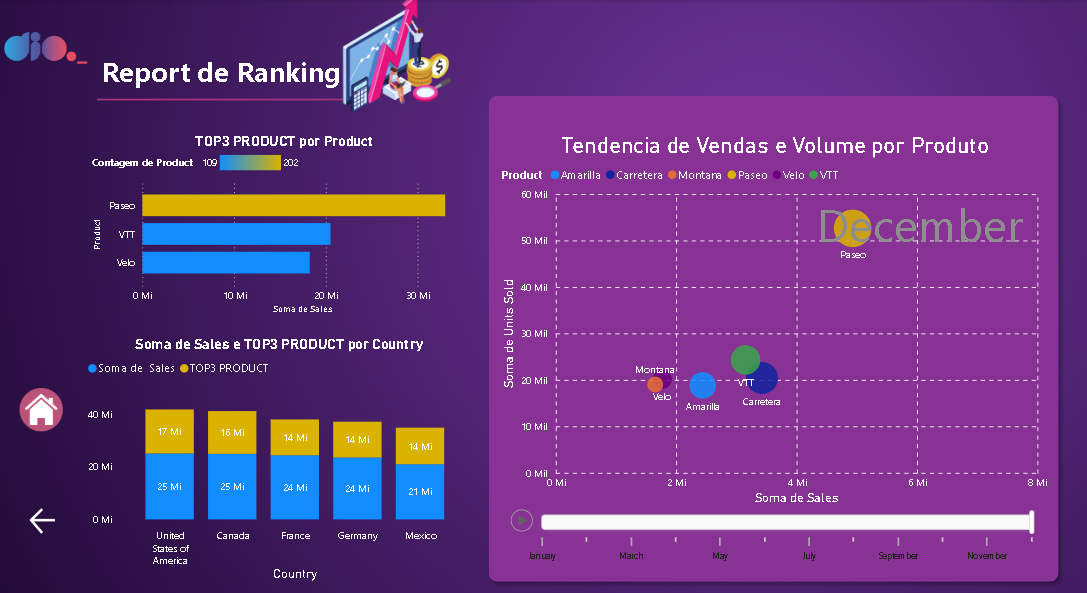

The page's visual inventory and layout, read from the dashboard file:
{"tool":"powerbi","page":{"name":"TOPN & Outliers","canvas":[1280,720],"ordinal":5},"visuals":[{"type":"image","box":[0,0,1280,720],"z":0},{"type":"shape","box":[566.7,111.7,688.3,590],"z":1000},{"type":"barChart","title":"TOP3 PRODUCT por Product","fields":{"Category":["financials.Product"],"Y":["Sum(financials. Sales)"]},"box":[105,163.3,461.7,218.3],"z":2000},{"type":"columnChart","fields":{"Y":["Sum(financials. Sales)","financials.TOP3 PRODUCT"],"Category":["financials.Country"]},"box":[98.6,402.9,461.4,294.3],"z":3000},{"type":"scatterChart","title":"Tendencia de Vendas e Volume por Produto","fields":{"X":["Sum(financials. Sales)"],"Y":["Sum(financials.Units Sold)"],"Size":["Sum(financials.Profit)"],"Play":["financials.Month Name"],"Series":["financials.Product"]},"box":[586.7,163.3,651.7,523.3],"z":4000},{"type":"image","box":[6,2,98,124],"z":5000},{"type":"actionButton","box":[31.7,601.7,46.7,40],"z":6000},{"type":"shape","box":[115.7,111.4,294.3,27.1],"z":7000},{"type":"textbox","box":[116,64,468,62],"z":8000},{"type":"image","box":[21.4,464.3,57.1,51.4],"z":9000},{"type":"actionButton","box":[21.4,457.1,57.1,61.4],"z":10000},{"type":"image","box":[388.6,1.4,160,138.6],"z":11000}]}

Visuals, with their boxes on the page's 1280x720 design canvas (x1, y1, x2, y2). These are canvas units, not pixel positions in the 1087x593 screenshot, which may show the page scaled, cropped or inside an application window:
image: (x1=0, y1=0, x2=1280, y2=720)
shape: (x1=567, y1=112, x2=1255, y2=702)
"TOP3 PRODUCT por Product" barChart: (x1=105, y1=163, x2=567, y2=382)
columnChart - Sum(financials. Sales) x financials.TOP3 PRODUCT: (x1=99, y1=403, x2=560, y2=697)
"Tendencia de Vendas e Volume por Produto" scatterChart: (x1=587, y1=163, x2=1238, y2=687)
image: (x1=6, y1=2, x2=104, y2=126)
actionButton: (x1=32, y1=602, x2=78, y2=642)
shape: (x1=116, y1=111, x2=410, y2=138)
textbox: (x1=116, y1=64, x2=584, y2=126)
image: (x1=21, y1=464, x2=78, y2=516)
actionButton: (x1=21, y1=457, x2=78, y2=518)
image: (x1=389, y1=1, x2=549, y2=140)
